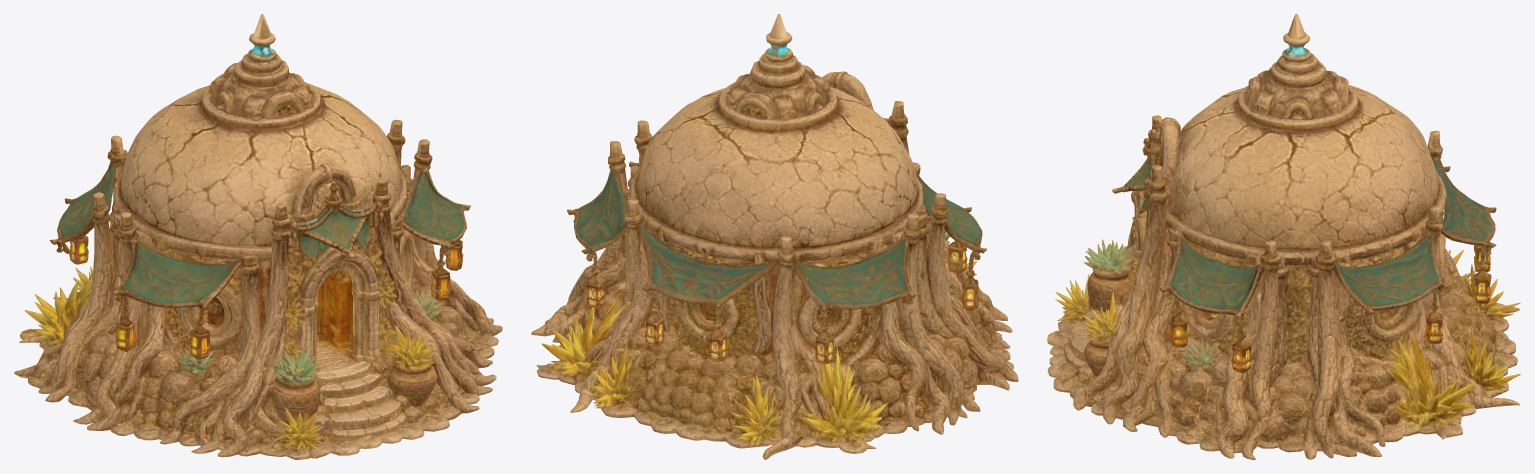
The model's file is sanctuary-dome.glb.
3 views of the same model, side by side, from view 1: azimuth 30°, elevation 25°; view 2: azimuth 150°, elevation 25°; view 3: azimuth 270°, elevation 25° (orthographic).
Size of the model in its own units: 1.9 by 1.47 by 1.84.
1 material, 1 textured.
